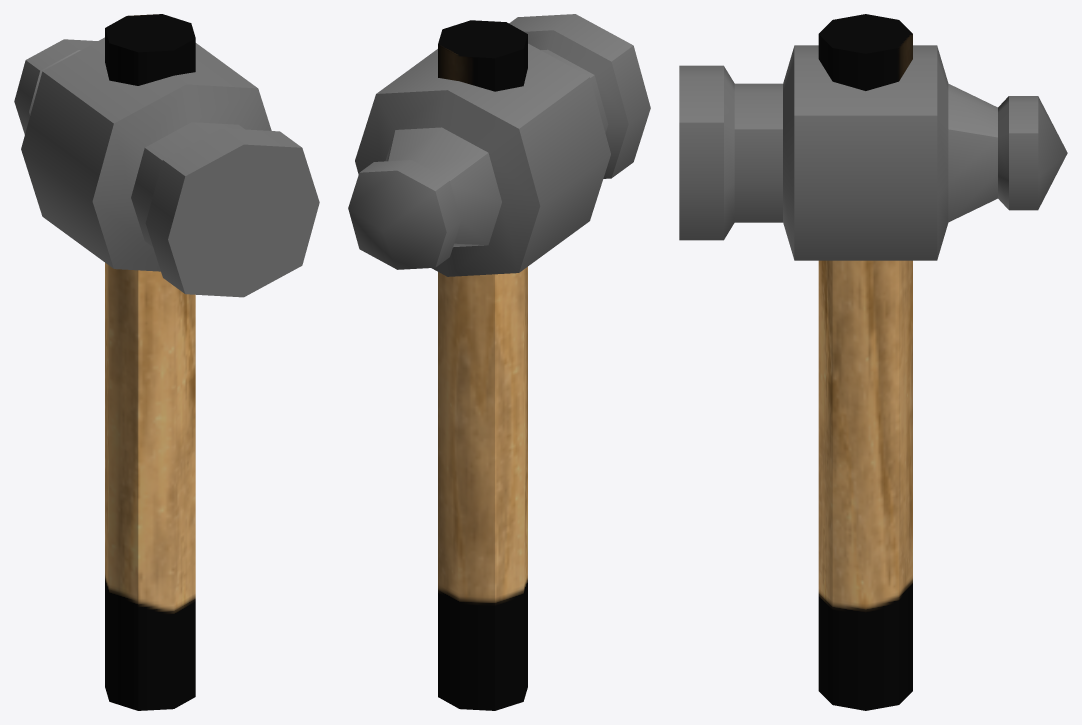
Rendered from Martillo_de_bola.obj.
3 renders of one model, left to right at view 1: azimuth 30°, elevation 25°; view 2: azimuth 150°, elevation 25°; view 3: azimuth 270°, elevation 25°, orthographic.
Visible parts, largest first — view 1: MartilloDeBola pCube48, pCube47 MartilloDeBola; view 2: MartilloDeBola pCube48, pCube47 MartilloDeBola; view 3: MartilloDeBola pCube48, pCube47 MartilloDeBola.
Boxes of the visible parts, x1=… form: MartilloDeBola pCube48: x1=14, y1=37, x2=319, y2=297; pCube47 MartilloDeBola: x1=105, y1=14, x2=195, y2=710; MartilloDeBola pCube48: x1=348, y1=14, x2=650, y2=276; pCube47 MartilloDeBola: x1=438, y1=20, x2=527, y2=710; MartilloDeBola pCube48: x1=679, y1=45, x2=1067, y2=260; pCube47 MartilloDeBola: x1=818, y1=14, x2=912, y2=710.
Bounding box in the file's own units: 11.76 × 39.53 × 21.19.
